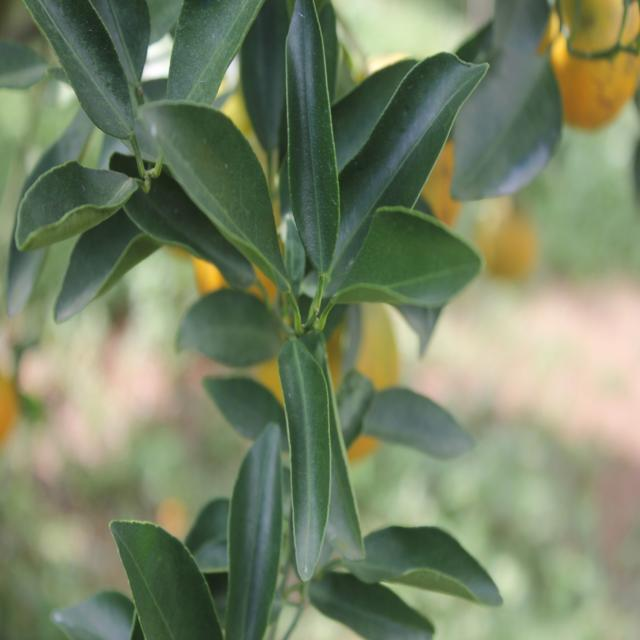healthy: (153, 104, 286, 286), (358, 64, 478, 192), (340, 203, 480, 311), (288, 19, 334, 263), (119, 520, 212, 640), (280, 346, 324, 563)
